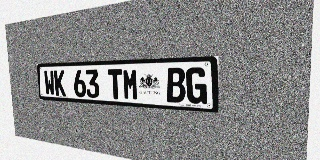3: (85, 69, 99, 98)
6: (73, 70, 86, 97)
B: (166, 68, 186, 103)
G: (186, 67, 207, 104)
K: (54, 70, 66, 96)
M: (122, 69, 139, 100)
T: (108, 69, 123, 100)
W: (44, 70, 55, 96)
